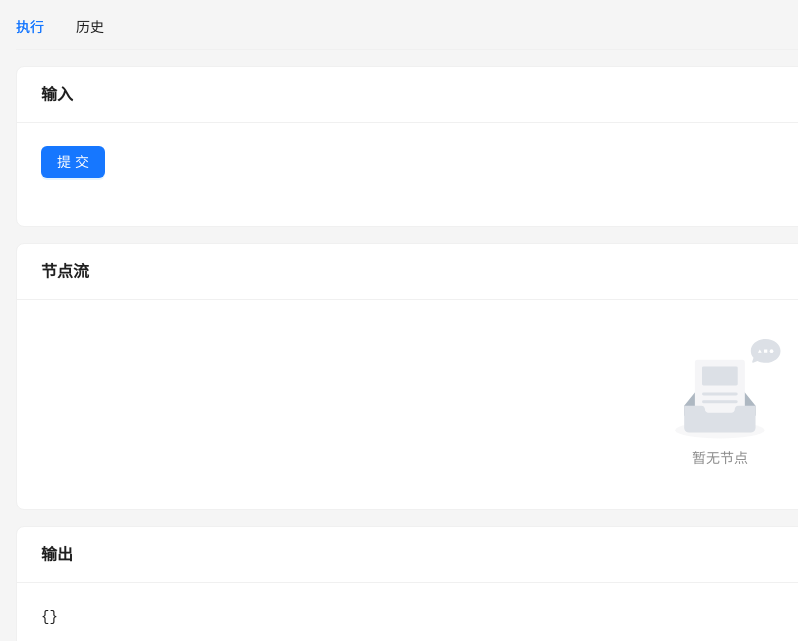
Test: <WorkflowRunPage> (TASK-77) › AC#2(e) — clicking 历史 tab reveals RunHistoryList
Check: the text "暂无运行历史" is not shown
Click the tab "历史" at (90, 27), box [76,16,104,38]
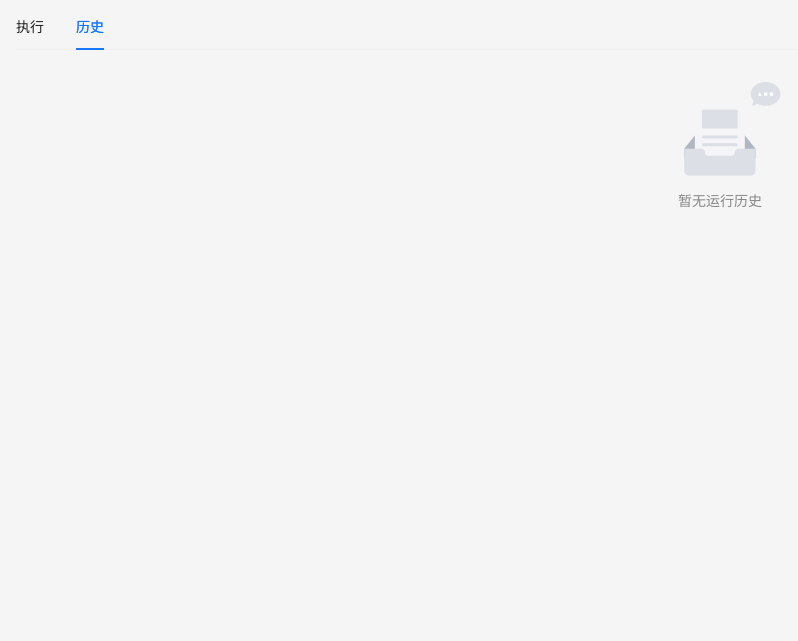
Check: the text "暂无运行历史" is shown, box [678,192,762,209]
